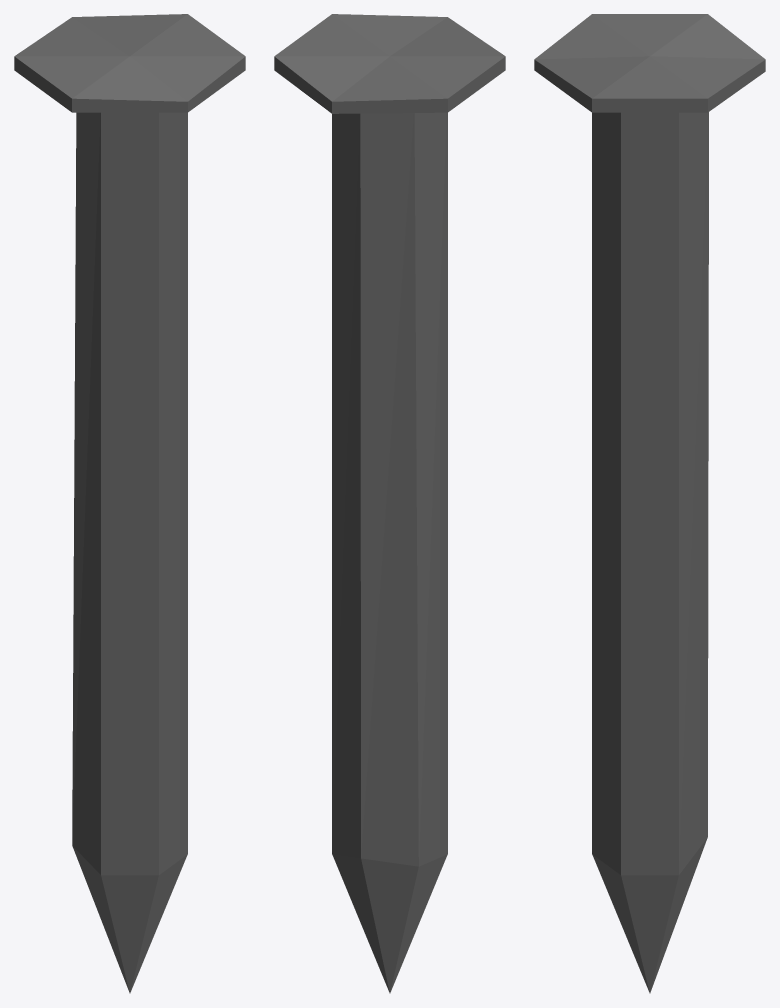
The model's file is nail_3.FBX.
The picture shows the model from 3 angles, left to right: view 1: azimuth 30°, elevation 25°; view 2: azimuth 150°, elevation 25°; view 3: azimuth 270°, elevation 25°; orthographic projection.
Parts seen in each view (by area): view 1: nail_low_poly_3; view 2: nail_low_poly_3; view 3: nail_low_poly_3.
Part boxes in pixels (bbox=[...]): nail_low_poly_3: bbox=[14, 14, 245, 993]; nail_low_poly_3: bbox=[274, 14, 505, 993]; nail_low_poly_3: bbox=[534, 14, 765, 993].
Size of the model in its own units: 10.23 by 52.79 by 11.81.
